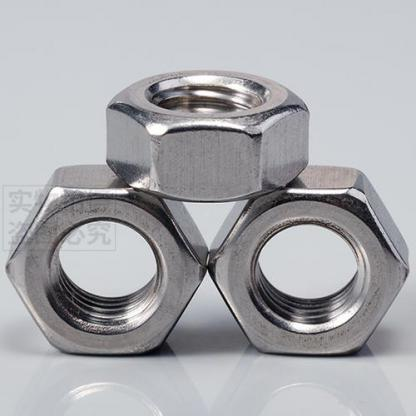FOD: (4, 160, 207, 360), (208, 162, 410, 357), (100, 66, 311, 204)
